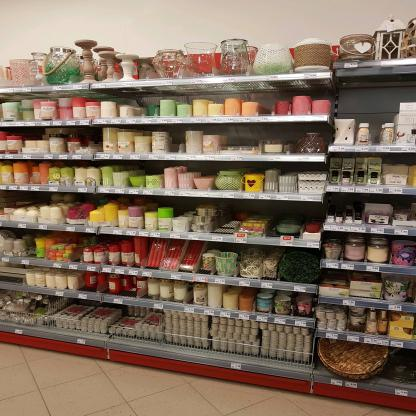Void: (226, 202, 315, 218), (223, 131, 255, 146), (332, 195, 361, 207), (170, 131, 179, 154), (374, 124, 378, 145)
